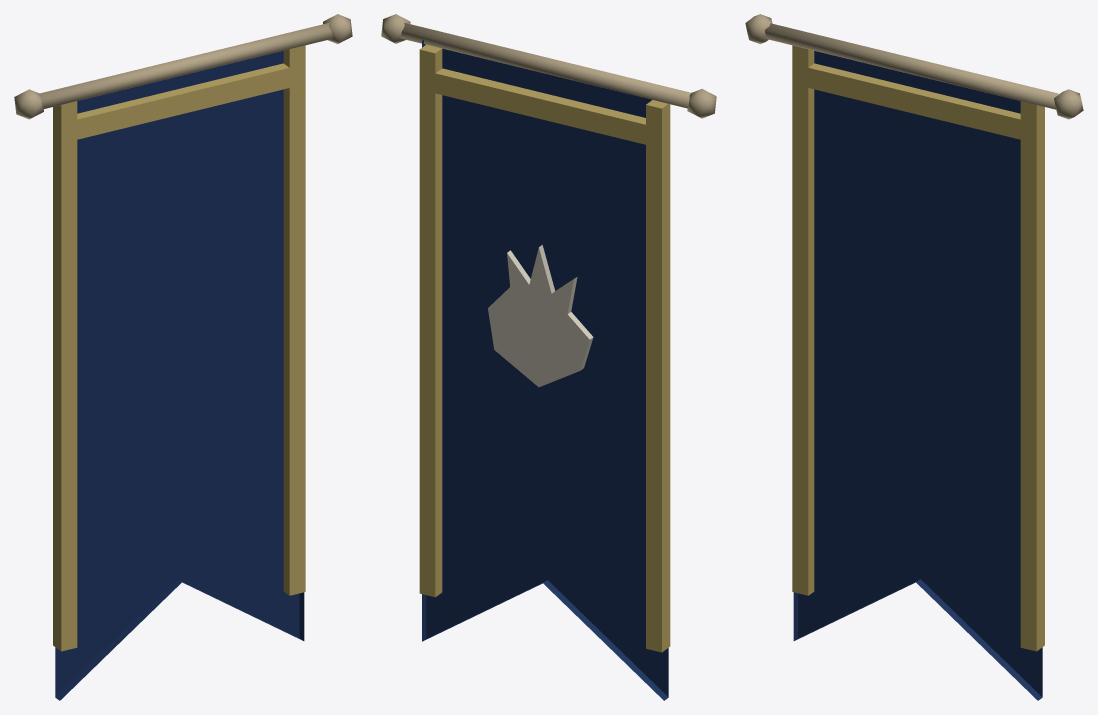
Rendered from fire_imp_banner_v0.glb.
3 views of the same model, side by side, from view 1: azimuth 30°, elevation 25°; view 2: azimuth 150°, elevation 25°; view 3: azimuth 330°, elevation 25° (orthographic).
Visible parts, largest first — view 1: fire_imp_banner_v0; view 2: fire_imp_banner_v0; view 3: fire_imp_banner_v0.
Boxes of the visible parts, x1,y1,x2,y2 form: fire_imp_banner_v0: [14, 14, 352, 700]; fire_imp_banner_v0: [381, 14, 716, 700]; fire_imp_banner_v0: [745, 14, 1083, 700].
Size of the model in its own units: 1.04 by 1.84 by 0.0933.
